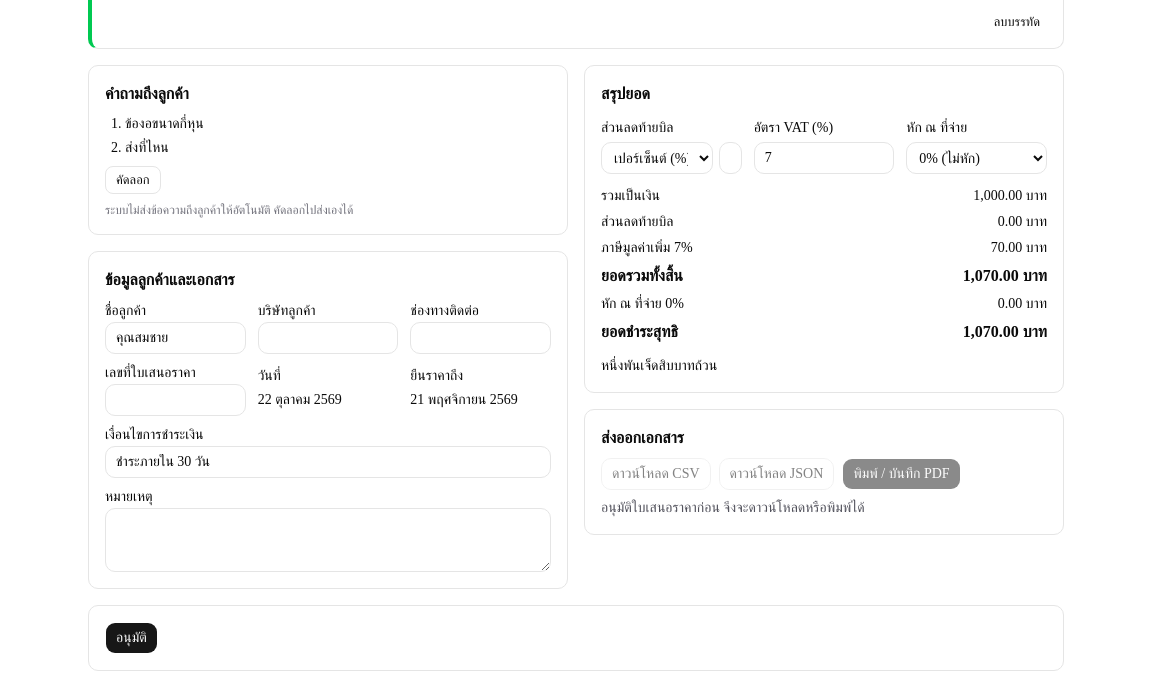
Test: approval gate › records the approval and withdraws it when anything is edited afterwards
(page scrolled)
Click the button "อนุมัติ": (131, 638) [105,622,158,654]
(page scrolled)
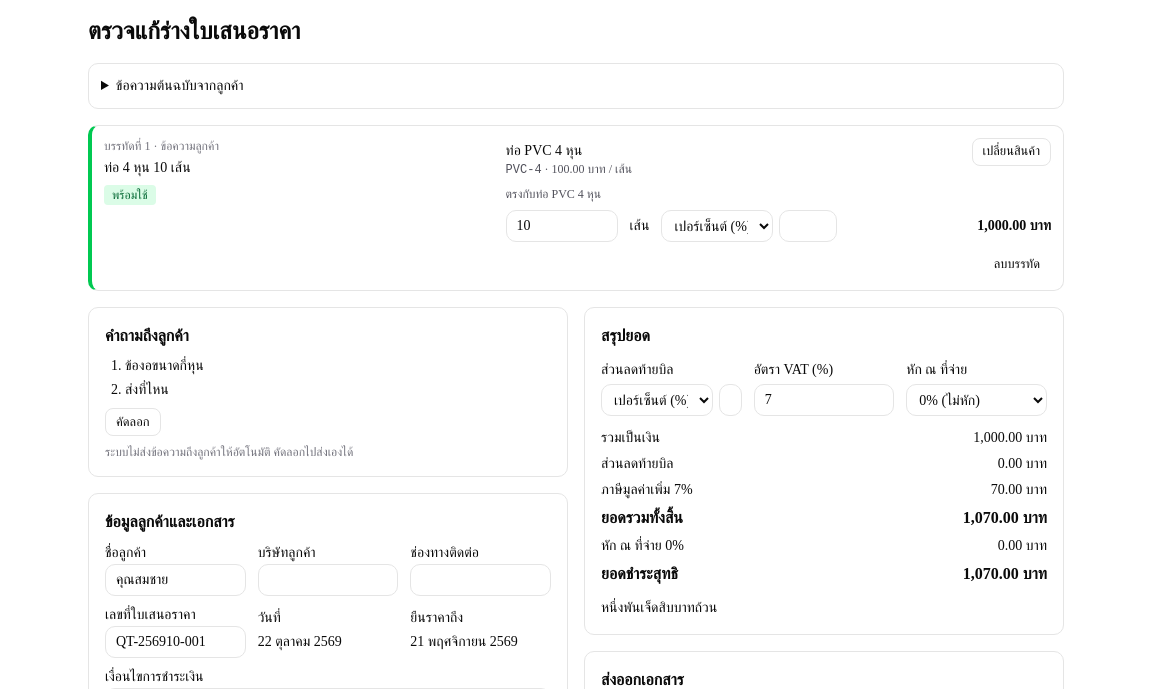
Replace the text in the field named "จำนวน บรรทัดที่ 1" with "12": (562, 226) [506,210,618,242]
(page scrolled)
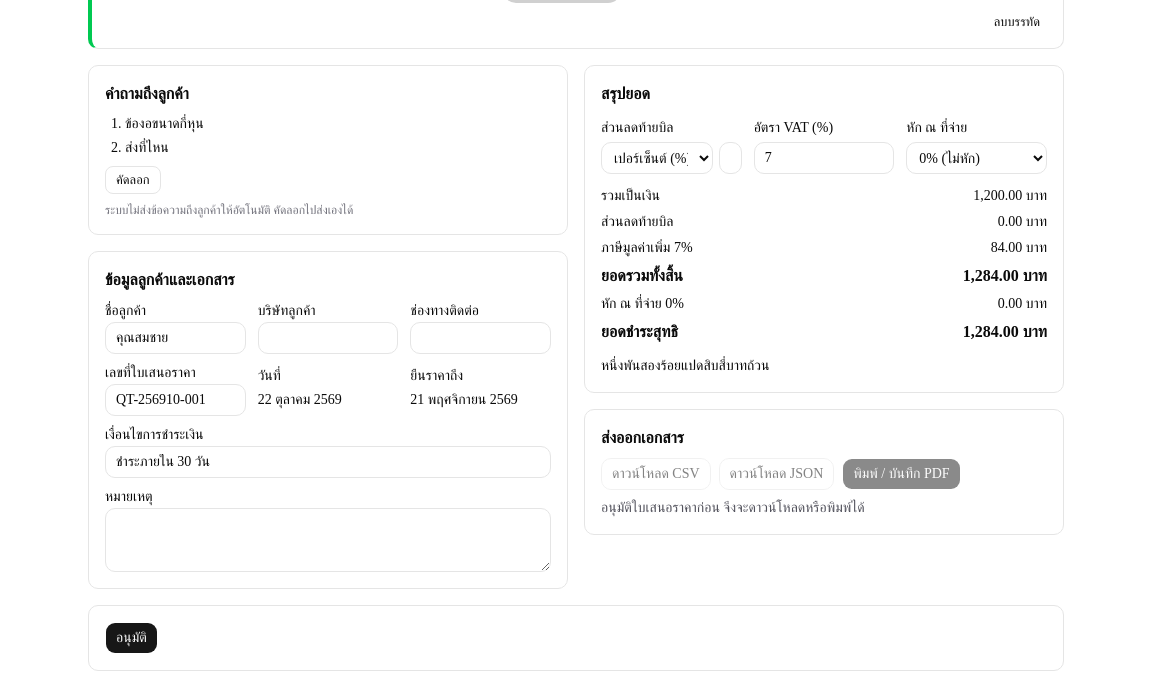
Now the button "อนุมัติ" is enabled, box [105,622,158,654]
